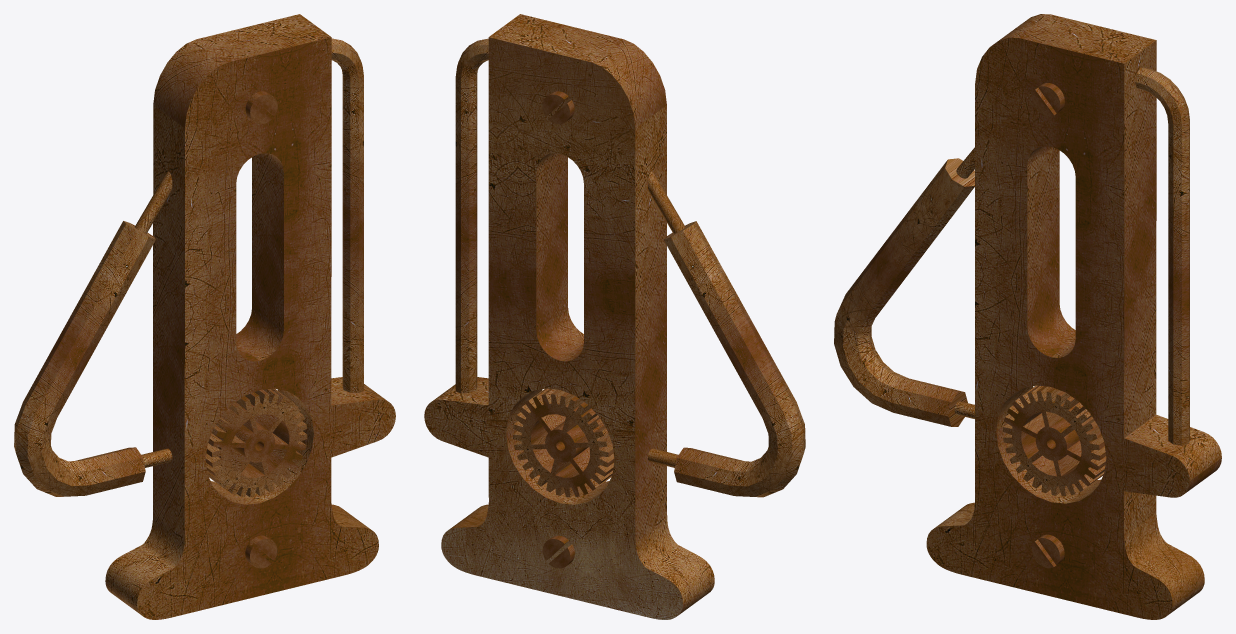
The picture shows the model from 3 angles, left to right: view 1: azimuth 30°, elevation 25°; view 2: azimuth 150°, elevation 25°; view 3: azimuth 330°, elevation 25°; orthographic projection.
Visible parts, largest first — view 1: 055, Tube_692, Cogwheel_437, Tube_691, Tube_586, Screw_692, Screw_691; view 2: 055, Tube_692, Tube_691, Cogwheel_437, Tube_586, Screw_691, Screw_692; view 3: 055, Tube_692, Tube_691, Cogwheel_437, Screw_691, Screw_692.
Part boxes in pixels (x1,y1,x2,y2): 055: [105, 14, 395, 619]; Tube_692: [14, 221, 155, 496]; Cogwheel_437: [205, 388, 307, 497]; Tube_691: [331, 38, 363, 392]; Tube_586: [135, 171, 172, 233]; Screw_692: [245, 91, 277, 124]; Screw_691: [245, 535, 277, 568]; 055: [424, 14, 714, 619]; Tube_692: [663, 221, 805, 497]; Tube_691: [455, 38, 488, 393]; Cogwheel_437: [513, 388, 614, 497]; Tube_586: [648, 171, 685, 233]; Screw_691: [542, 535, 574, 568]; Screw_692: [542, 91, 574, 124]; 055: [926, 14, 1221, 619]; Tube_692: [834, 158, 974, 426]; Tube_691: [1135, 67, 1189, 445]; Cogwheel_437: [1002, 385, 1106, 496]; Screw_691: [1032, 534, 1064, 568]; Screw_692: [1032, 83, 1064, 116].
Size of the model in its own units: 66.26 by 94.17 by 12.89.
1 material, 1 textured.
